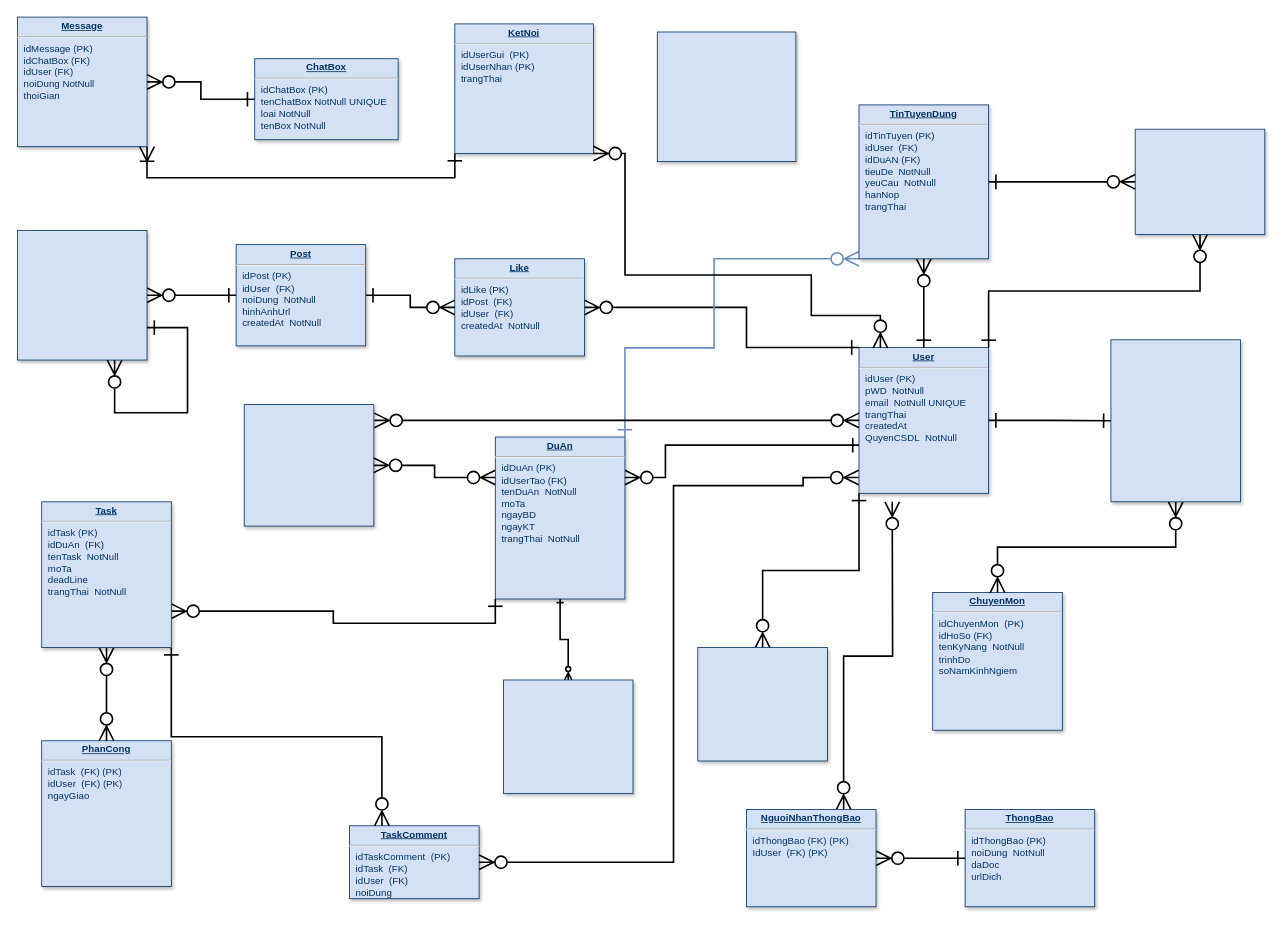
This 1284x927 diagram has some shape labels left out. The centre of each missing label's shape, as x and y in pixels:
Comment idComment (PK) idPost (FK) idUser (FK) idParentComment noiDung NotNull: pixel 82 296
File idFile (PK) idDuAn (FK) tenFile NotNull urlTruyCap NotNull loaiFile: pixel 568 737
GrChat idGr (PK) idUser (FK) idChatBox (FK): pixel 727 97
HoSo iDHoSo (PK) idUser (FK) HovaTen NotNull avatar tieuSu SDT NotNull: pixel 1176 421
log idLog (PK) idUser (FK) hanhDong thoiGian: pixel 763 705
ThanhVienDuAn idDuAn (FK) (PK) idUser (FK) (PK) vaiTro NotNull diemDanhGia: pixel 309 466
UngTuyen idUngTuyen (PK) idTinTuyen (FK) idUser (FK) loiNhan trangThai NgayNop: pixel 1200 182
